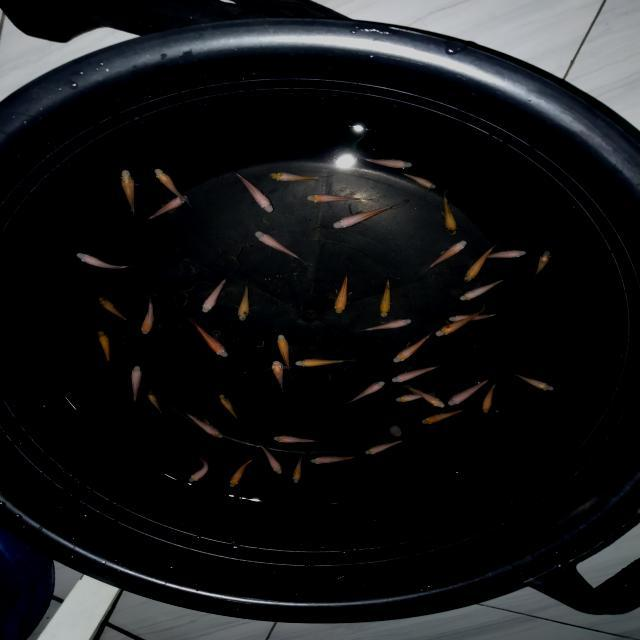nila: (226, 164, 276, 216), (323, 202, 401, 233), (147, 165, 197, 207), (459, 240, 502, 286), (186, 318, 233, 360), (437, 302, 490, 336), (421, 238, 471, 273), (446, 374, 494, 409), (252, 227, 296, 264), (459, 276, 519, 302), (71, 248, 136, 271), (180, 410, 226, 441), (392, 332, 431, 365), (116, 167, 140, 220), (200, 273, 228, 317), (228, 452, 260, 490), (506, 371, 556, 395), (354, 153, 412, 173), (94, 295, 130, 327), (148, 195, 190, 222), (253, 442, 285, 477), (332, 270, 356, 316), (358, 318, 418, 336), (440, 184, 460, 238), (405, 384, 447, 409), (392, 364, 442, 385), (375, 267, 394, 320), (420, 408, 470, 428), (304, 190, 366, 206), (276, 332, 296, 380), (396, 170, 438, 192), (216, 392, 244, 424), (292, 356, 360, 369), (95, 328, 115, 372), (479, 382, 504, 417), (347, 381, 385, 404), (530, 249, 555, 283), (446, 310, 506, 324), (268, 170, 332, 183), (187, 454, 212, 486), (366, 438, 408, 457), (237, 278, 254, 324), (394, 390, 445, 405), (138, 296, 156, 338), (270, 360, 290, 397), (308, 453, 362, 466), (130, 365, 144, 413), (270, 434, 322, 446), (483, 248, 526, 262), (291, 453, 308, 486), (147, 389, 167, 416)
